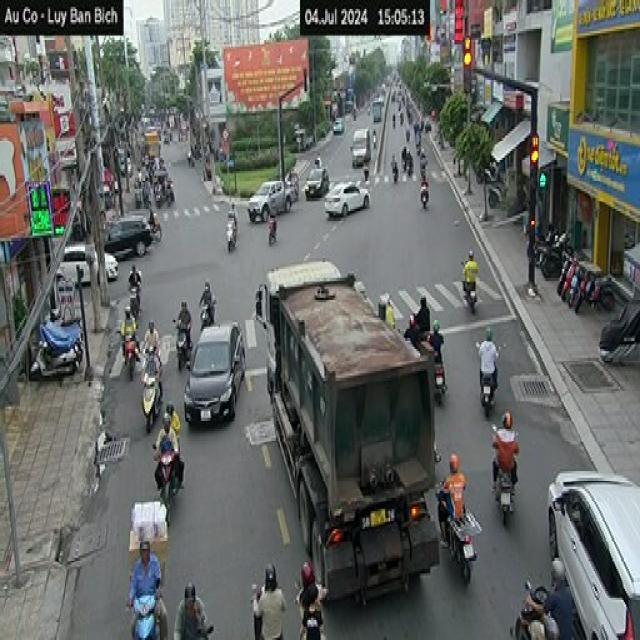Red: (528, 133, 540, 194), (462, 33, 473, 96), (531, 212, 536, 246)
